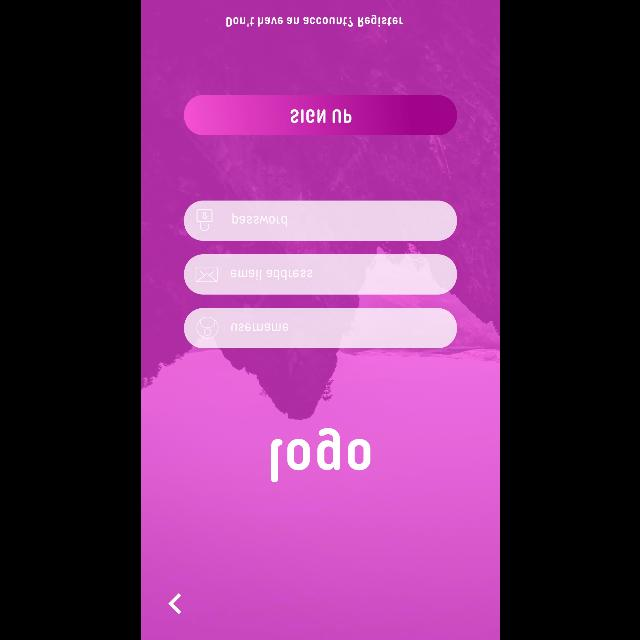backgroundimage: (140, 1, 500, 640)
icon: (196, 317, 218, 339), (196, 209, 212, 231), (195, 266, 217, 282), (168, 592, 180, 614)
input: (184, 308, 456, 348), (184, 254, 456, 294), (184, 201, 456, 241)
text: (270, 428, 370, 482), (225, 15, 403, 28), (230, 270, 312, 280), (232, 213, 286, 227), (230, 323, 288, 331)
textbutton: (184, 95, 456, 135)
